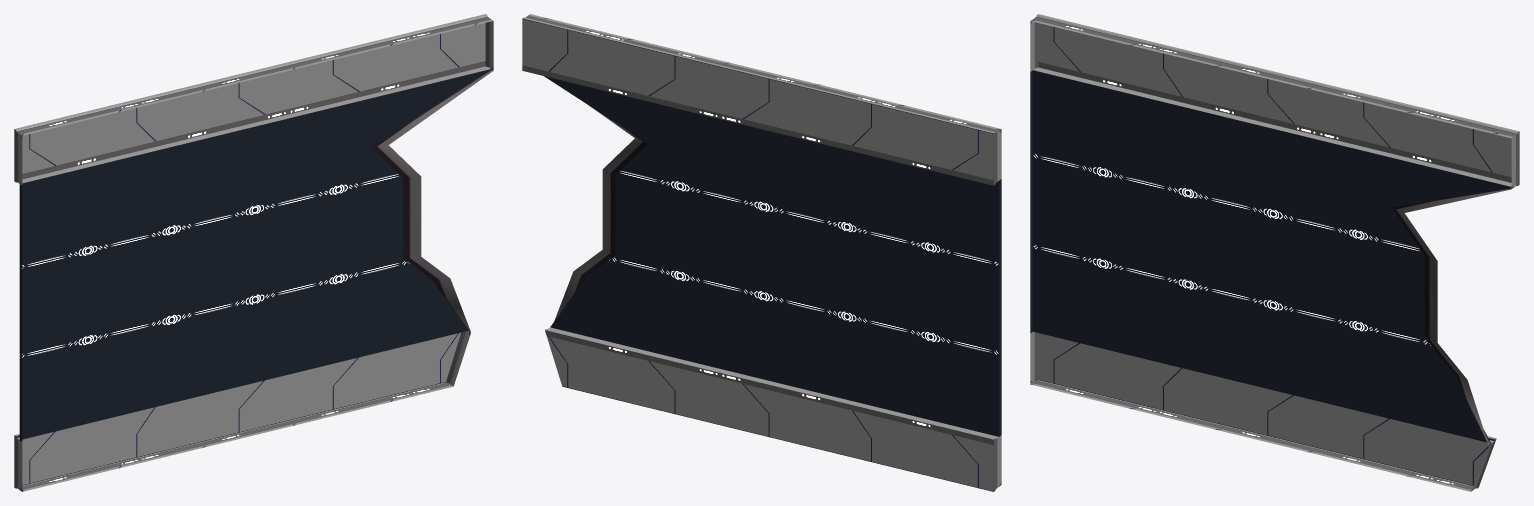
File: SM_M_BRoad1.fbx
The picture shows the model from 3 angles, left to right: view 1: azimuth 30°, elevation 25°; view 2: azimuth 150°, elevation 25°; view 3: azimuth 330°, elevation 25°; orthographic projection. The views are drawn at different scales.
Parts seen in each view (by area): view 1: SM_M_BRoad1; view 2: SM_M_BRoad1; view 3: SM_M_BRoad1.
Boxes of the visible parts, left/top/right/bottom form: SM_M_BRoad1: left=14, top=14, right=493, bottom=491; SM_M_BRoad1: left=522, top=14, right=1001, bottom=491; SM_M_BRoad1: left=1030, top=14, right=1519, bottom=491.
Size of the model in its own units: 5418 by 3938 by 155.
